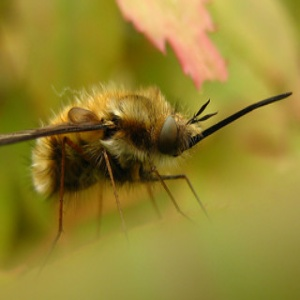bee: (25, 85, 212, 220)
